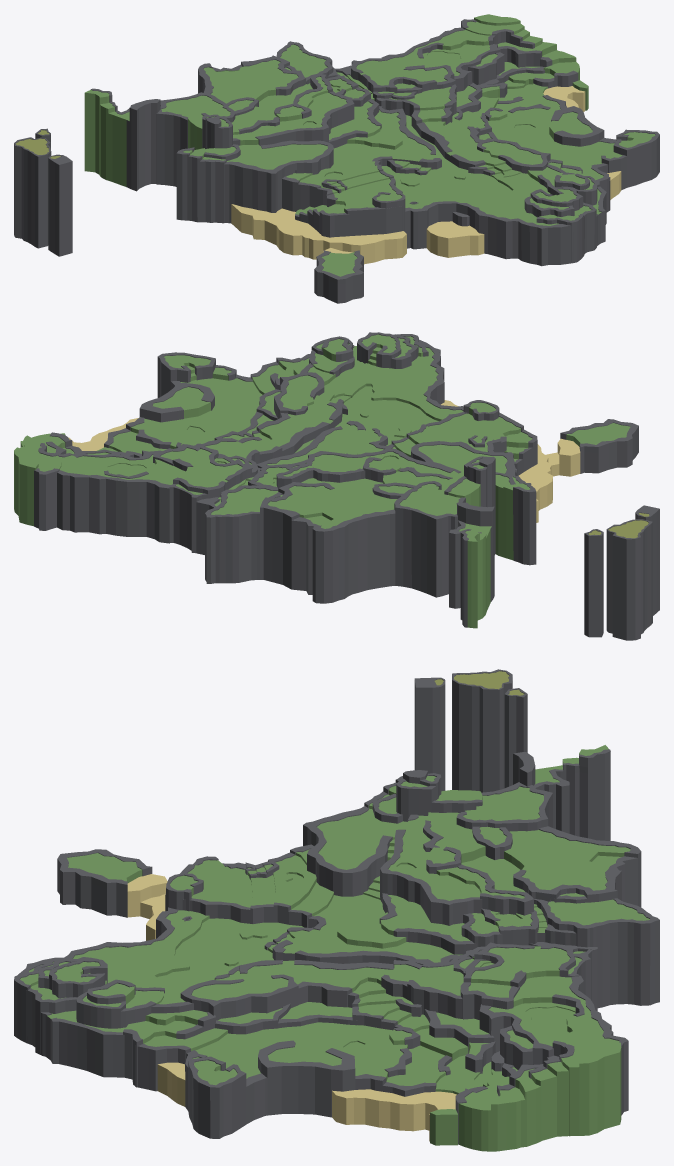
Rendered from tiles_limgrave.glb.
The picture shows the model from 3 angles, top to bottom: view 1: azimuth 30°, elevation 25°; view 2: azimuth 150°, elevation 25°; view 3: azimuth 270°, elevation 25°; orthographic projection. The views are drawn at different scales.
Parts seen in each view (by area): view 1: Plane.031, Plane, Plane.089, Plane.093, Plane.001, Plane.005, Plane.006, Plane.058, Plane.017, Plane.009, Plane.012, Plane.043 (+41 smaller); view 2: Plane.017, Plane.089, Plane.048, Plane.009, Plane.021, Plane.093, Plane.058, Plane.031, Plane.026, Plane.086, Plane.006, Plane.001 (+33 smaller); view 3: Plane.089, Plane.021, Plane.017, Plane.001, Plane.058, Plane.005, Plane.055, Plane.093, Plane.059, Plane.086, Plane.040, Plane (+49 smaller).
Part boxes in pixels (<box>): Plane.031: <box>405,173,573,266</box>; Plane: <box>231,86,621,264</box>; Plane.089: <box>14,128,72,256</box>; Plane.093: <box>84,88,160,191</box>; Plane.001: <box>282,160,402,235</box>; Plane.005: <box>224,140,333,223</box>; Plane.006: <box>176,144,240,223</box>; Plane.058: <box>487,104,616,173</box>; Plane.017: <box>198,55,305,103</box>; Plane.009: <box>156,92,235,186</box>; Plane.012: <box>233,91,354,145</box>; Plane.043: <box>381,115,511,198</box>; Plane.017: <box>260,482,397,603</box>; Plane.089: <box>584,505,659,640</box>; Plane.048: <box>57,453,185,543</box>; Plane.009: <box>394,481,465,597</box>; Plane.021: <box>205,485,278,583</box>; Plane.093: <box>449,502,494,628</box>; Plane.058: <box>126,374,262,448</box>; Plane.031: <box>324,339,463,421</box>; Plane.026: <box>169,446,251,553</box>; Plane.086: <box>545,419,638,476</box>; Plane.006: <box>495,472,536,565</box>; Plane.001: <box>391,411,523,456</box>; Plane.089: <box>414,669,527,792</box>; Plane.021: <box>534,898,659,1008</box>; Plane.017: <box>504,826,641,907</box>; Plane.001: <box>165,844,333,927</box>; Plane.058: <box>186,1022,411,1124</box>; Plane.005: <box>303,806,406,896</box>; Plane.055: <box>455,1055,559,1151</box>; Plane.093: <box>513,745,610,840</box>; Plane.059: <box>258,1040,355,1117</box>; Plane.086: <box>57,849,167,919</box>; Plane.040: <box>272,894,462,964</box>; Plane: <box>146,894,456,1141</box>.
Bounding box in the file's own units: 23.93 × 4.01 × 17.55.
